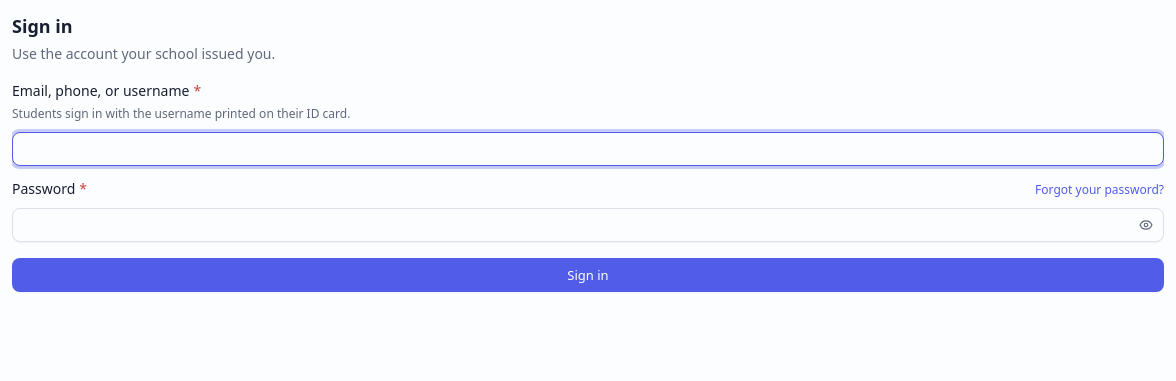
Scenario: LoginForm › maps a field-level API error onto the matching form field
In the field labelled "Email, phone, or username*": (588, 149) [12, 132, 1164, 166], type "nobody"
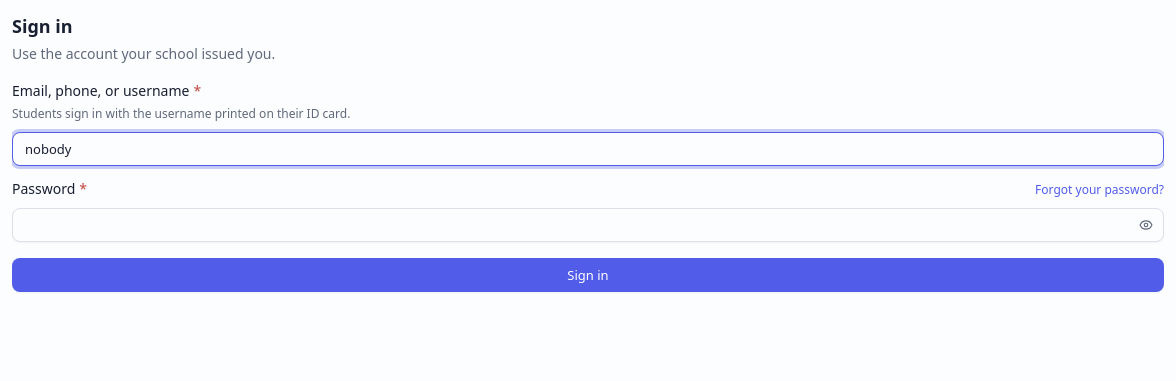
In the password field labelled "Password*": (588, 225) [12, 208, 1164, 242], type "secret123"
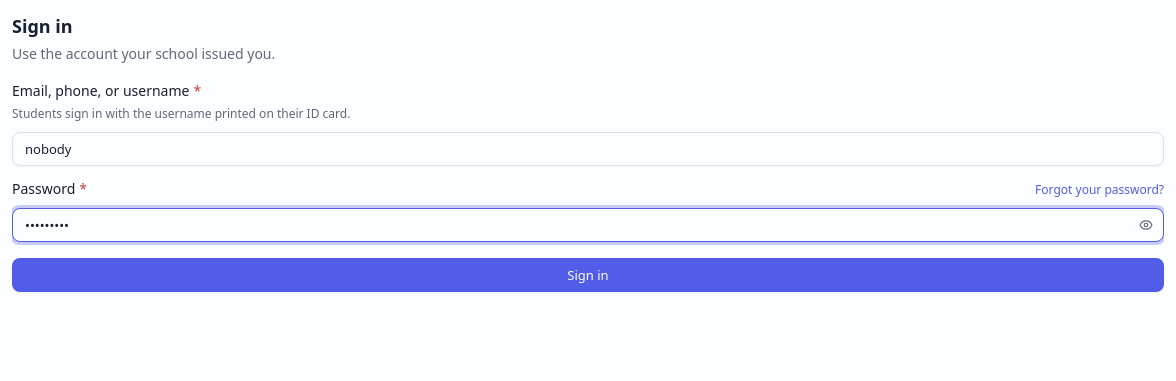
Click the button "Sign in": click(588, 275) [12, 258, 1164, 292]
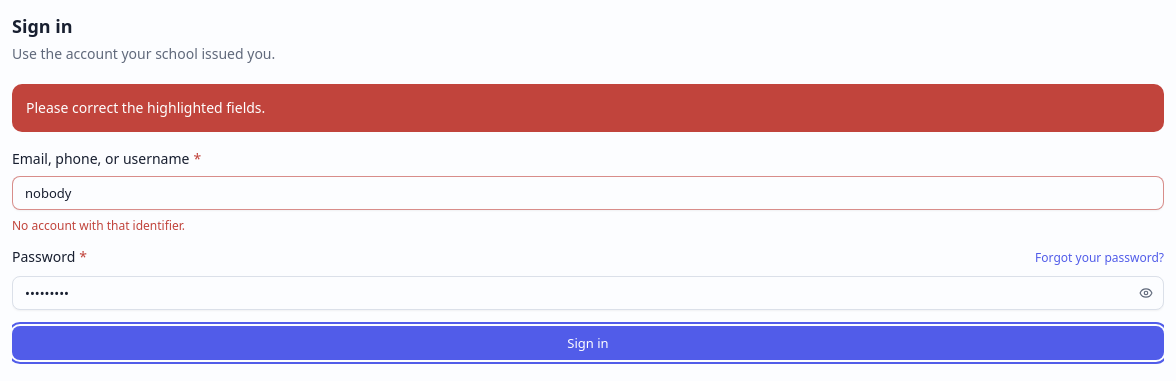
Result: the text "No account with that identifier." is shown at [12, 217, 185, 234]
